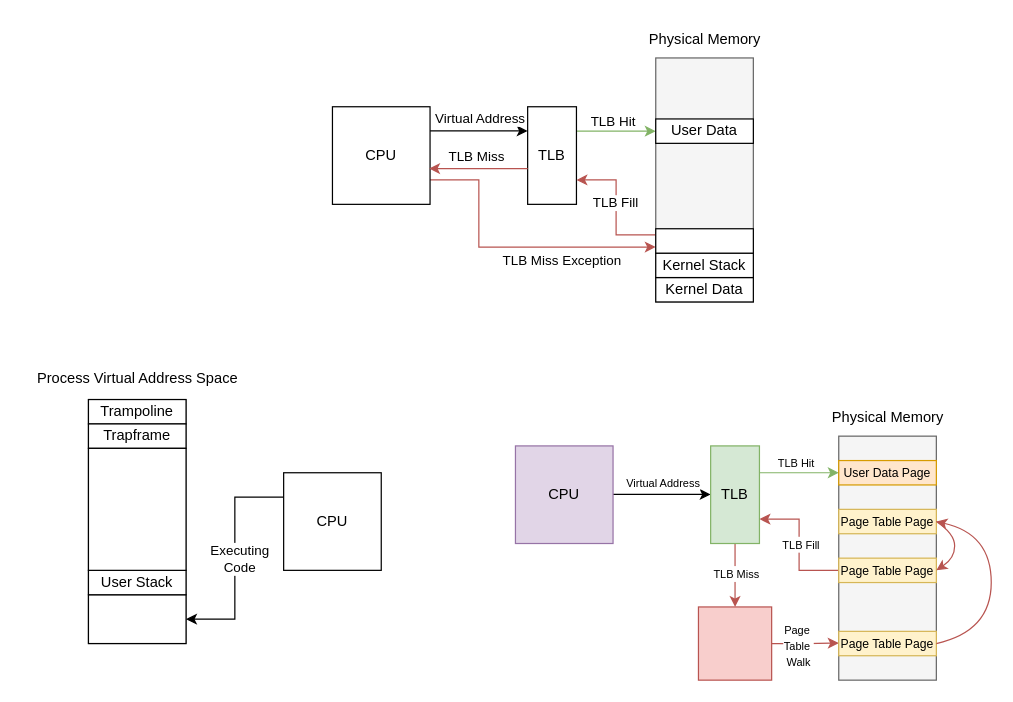
Image size: 1013x702. Some labels were removed from this diagram. Each missing label, with the box of its shape:
Heap: (87, 447, 186, 570)
MMU: (697, 606, 772, 680)
TLB Manager: (655, 228, 753, 253)
User Data and Text: (87, 594, 186, 644)
